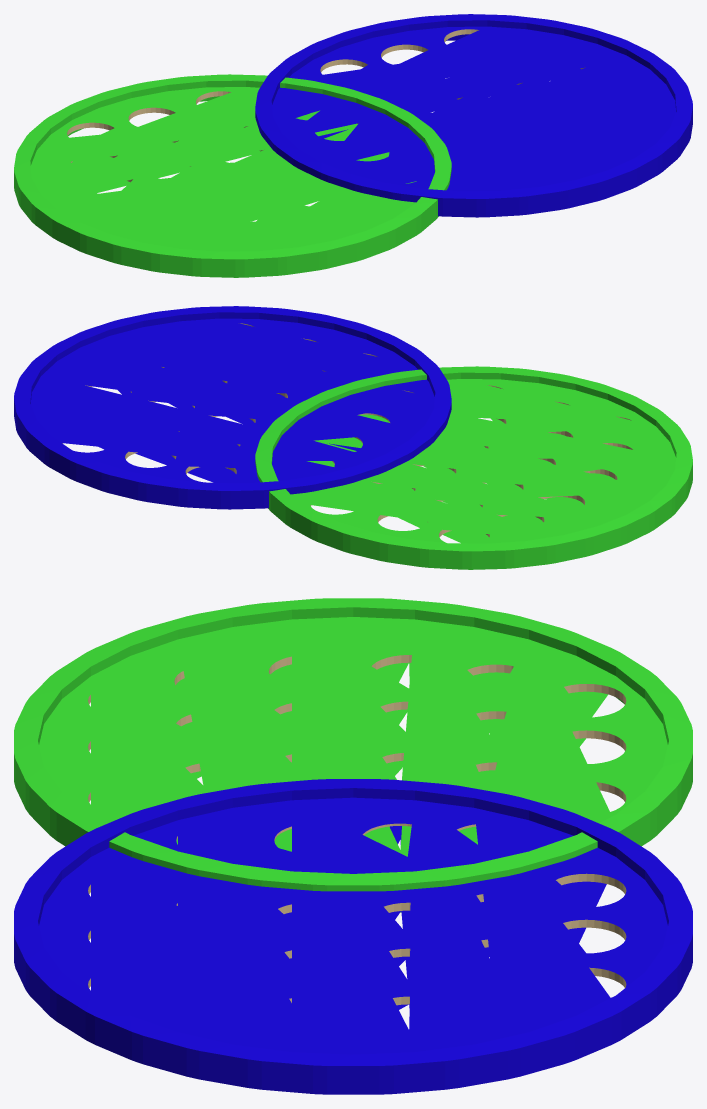
The model's file is two circle 1.fbx.
3 renders of one model, top to bottom at view 1: azimuth 30°, elevation 25°; view 2: azimuth 150°, elevation 25°; view 3: azimuth 270°, elevation 25°, orthographic. The views are drawn at different scales.
Parts seen in each view (by area): view 1: Cylinder.003; view 2: Cylinder.003; view 3: Cylinder.003.
Part boxes in pixels (left/top/right/bottom): Cylinder.003: left=14, top=14, right=692, bottom=277; Cylinder.003: left=14, top=306, right=692, bottom=569; Cylinder.003: left=14, top=598, right=692, bottom=1094.
Bounding box in the file's own units: 975 × 32.24 × 595.
